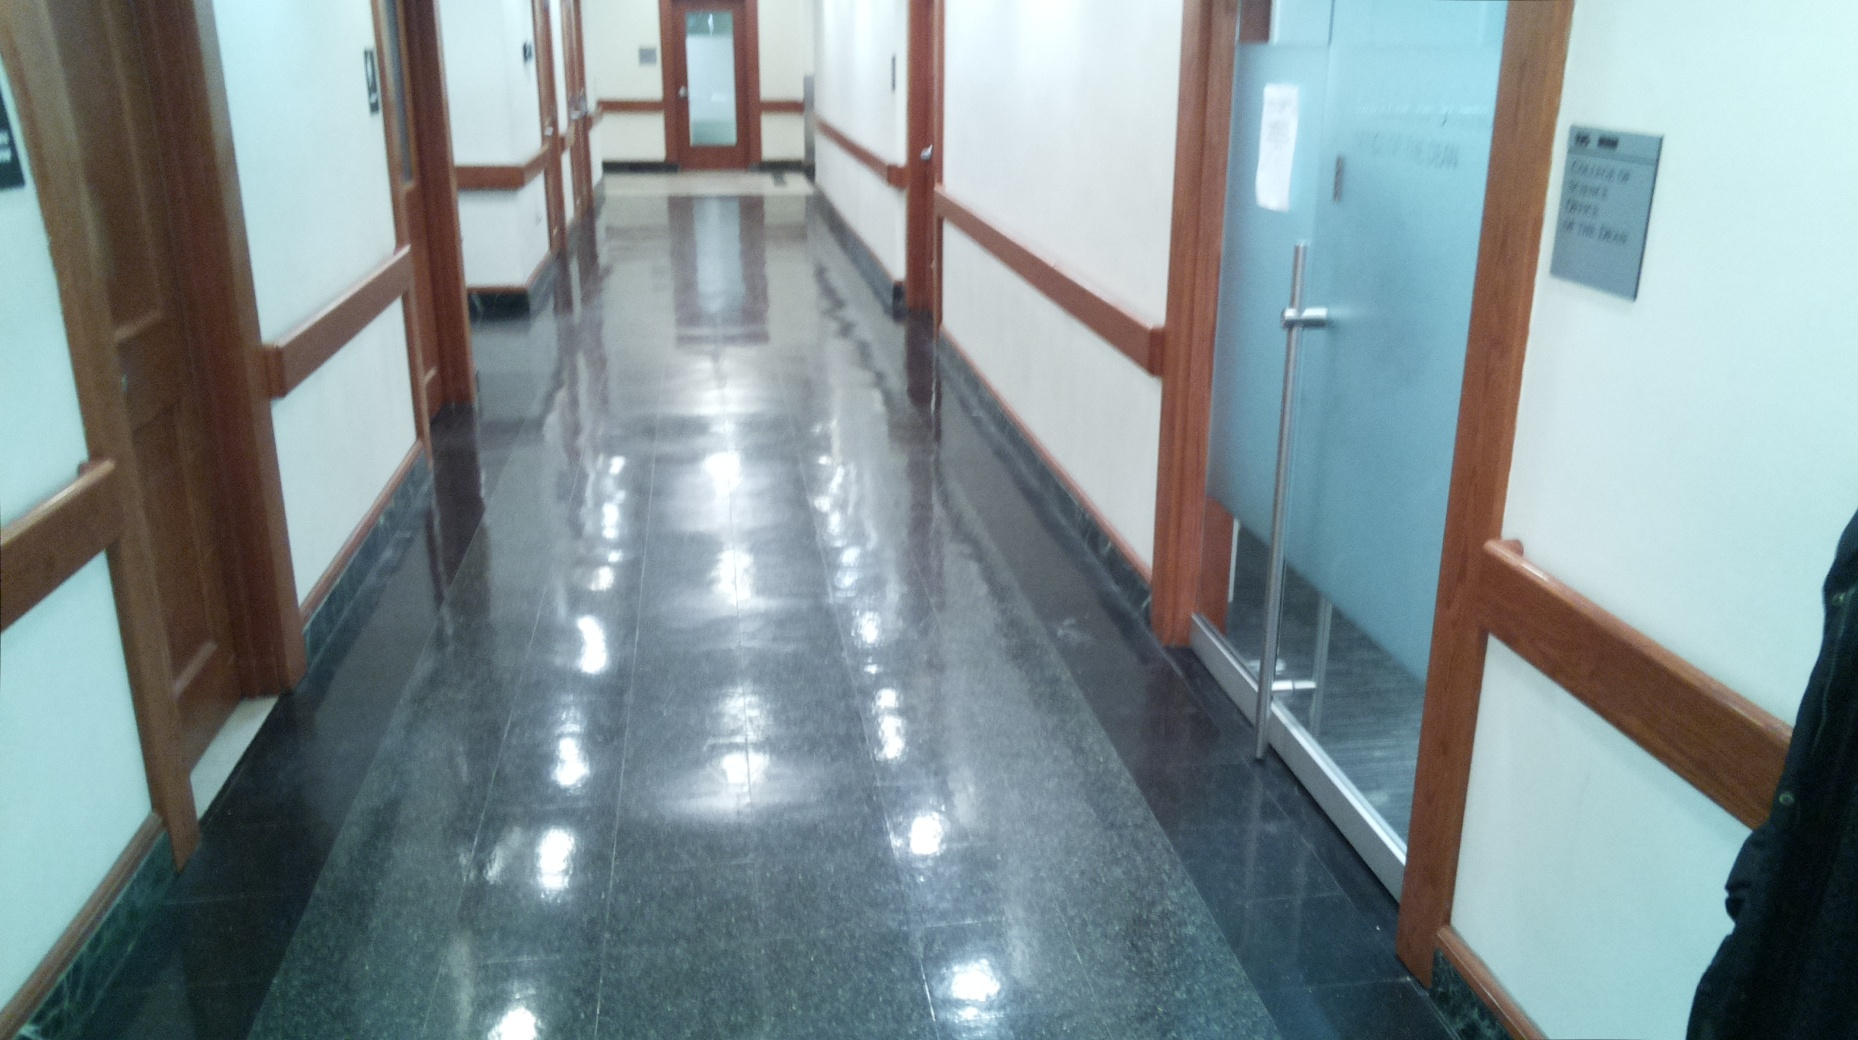bathroom sign: (362, 47, 382, 117)
